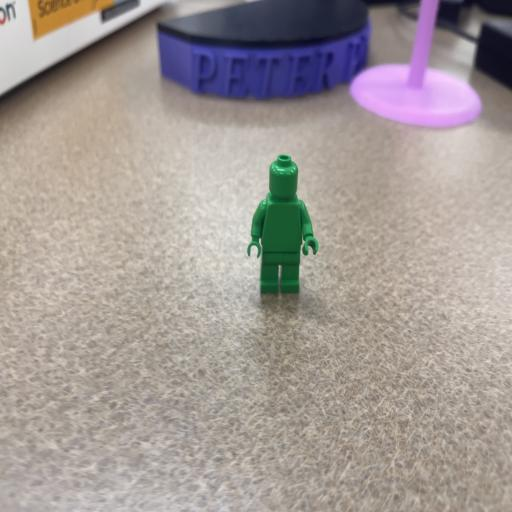Lego-Minifig: (247, 154, 318, 293), (271, 263, 295, 269)
